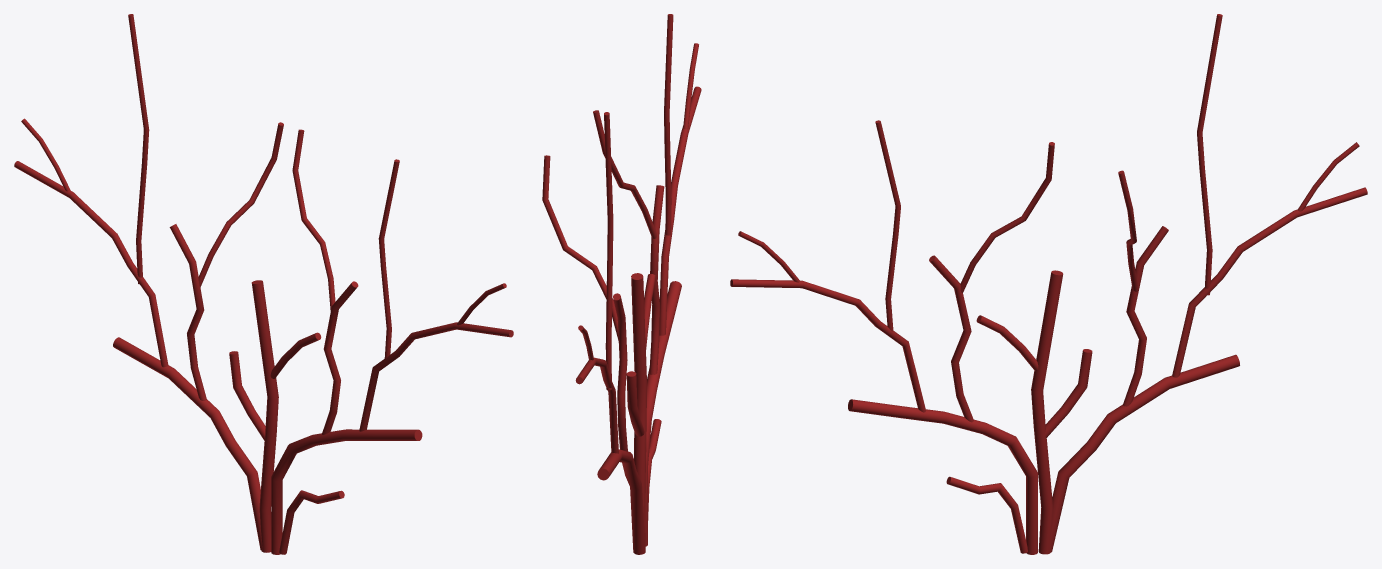
Rendered from coral2.glb.
3 renders of one model, left to right at view 1: azimuth 30°, elevation 25°; view 2: azimuth 150°, elevation 25°; view 3: azimuth 270°, elevation 25°, orthographic. The views are drawn at different scales.
Visible parts, largest first — view 1: Line001; view 2: Line001; view 3: Line001.
Boxes of the visible parts, x1,y1,x2,y2 form: Line001: (14,14,513,554); Line001: (542,14,701,554); Line001: (730,14,1367,554).
Size of the model in its own units: 1.17 by 2.76 by 3.13.
